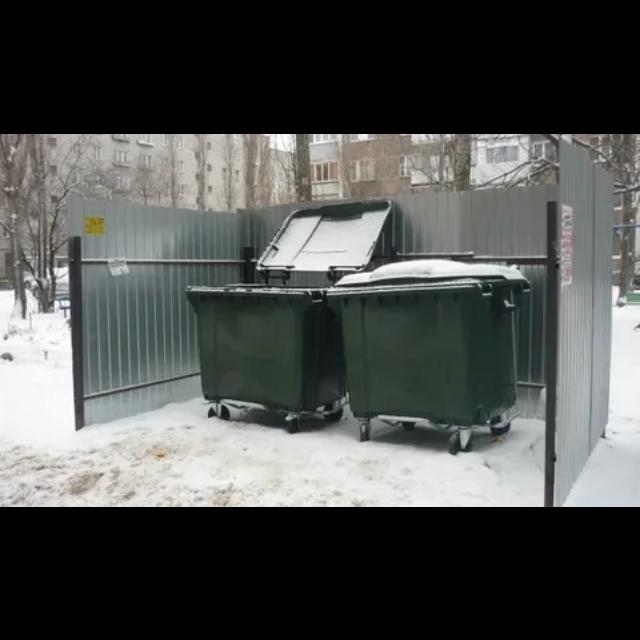Trash_Can_Closed: (328, 257, 530, 428)
Trash_Can_Empty: (186, 282, 347, 414)
